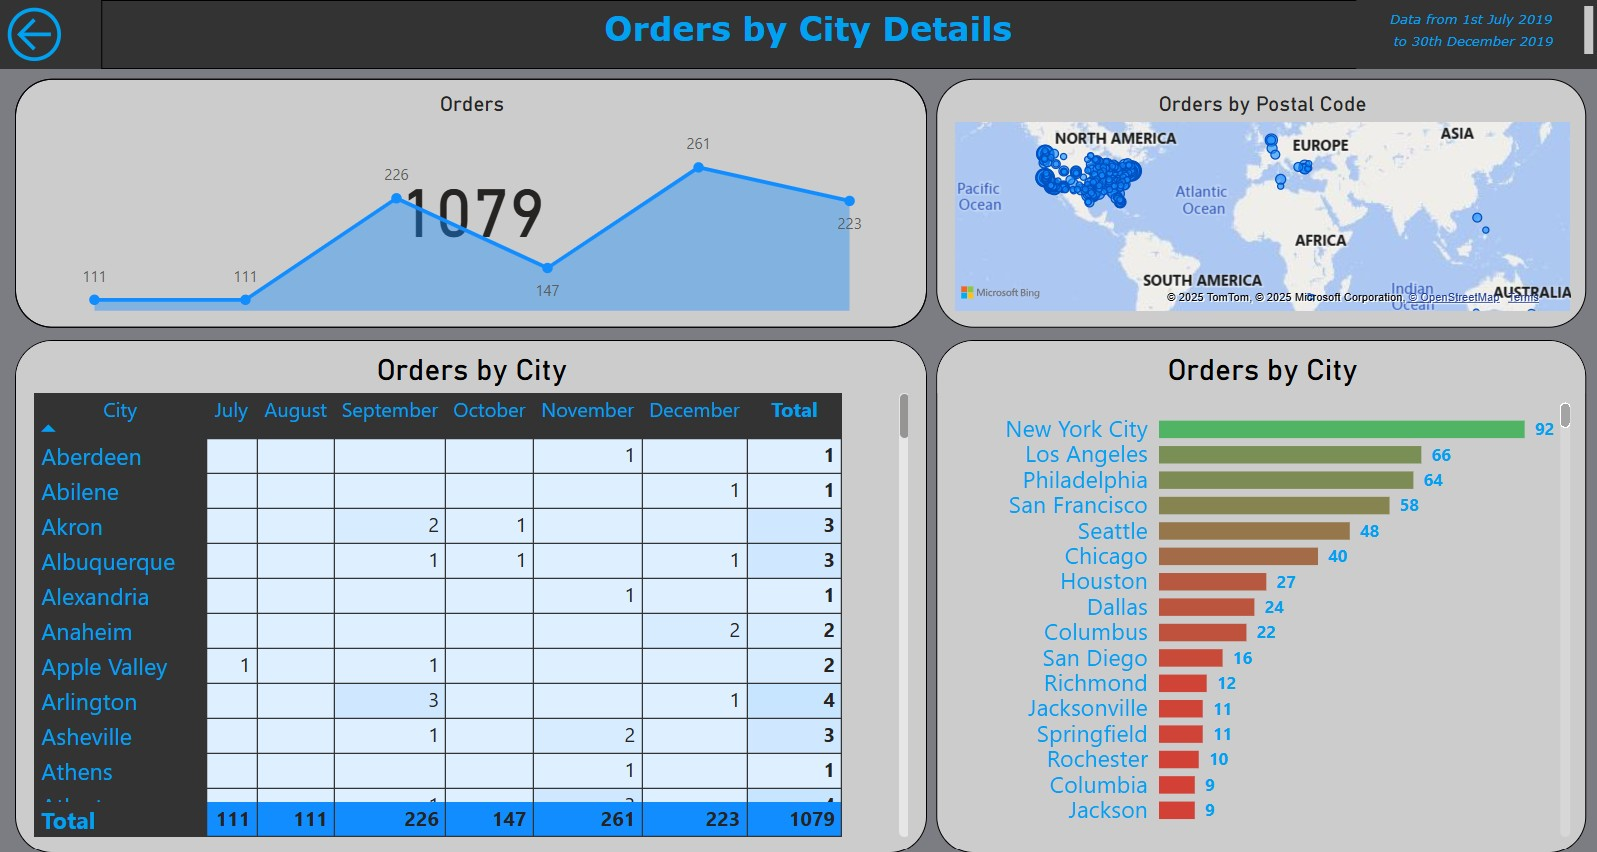

The dashboard page shown, as its layout file describes it:
{"tool":"powerbi","page":{"name":"Orders By City","canvas":[1280,690],"ordinal":3},"visuals":[{"type":"pivotTable","title":"Orders by City","fields":{"Rows":["Geographical_DimTable.City"],"Columns":["Orders_Table.Order Date.Variation.Date Hierarchy.Month"],"Values":["Count(Orders_Table.Order ID)"]},"box":[12.2,272.2,728.9,411.1],"z":0},{"type":"actionButton","box":[0,0,81,55],"z":1000},{"type":"textbox","box":[81.2,0,1128.8,55],"z":2000},{"type":"textbox","box":[1085,0,195,55],"z":3000},{"type":"barChart","title":"Orders by City","fields":{"Category":["Geographical_DimTable.City"],"Y":["Count(Orders_Table.Order ID)"]},"box":[748.9,272.2,520,411.1],"z":4000},{"type":"card","title":"Sales in Last 6 Months","fields":{"Values":["Count(Orders_Table.Order ID)"]},"box":[12.2,63.3,728.9,198.9],"z":5000},{"type":"areaChart","title":"Orders","fields":{"Category":["Orders_Table.Order Date.Variation.Date Hierarchy.Month"],"Y":["Count(Orders_Table.Order ID)"]},"box":[12.2,63.3,728.9,198.9],"z":6000},{"type":"map","title":"Orders by Postal Code","fields":{"Category":["Geographical_DimTable.Postal Code"],"Size":["Count(Orders_Table.Order ID)"]},"box":[748.9,63.3,520,198.9],"z":7000}]}

Visuals, with their boxes in screenshot pixels (x1, y1, x2, y2), scaled from the page's 1280x690 canvas onto the 1597x852 screenshot:
"Orders by City" pivotTable: select_region(15, 336, 925, 844)
actionButton: select_region(0, 0, 101, 68)
textbox: select_region(101, 0, 1510, 68)
textbox: select_region(1354, 0, 1596, 68)
"Orders by City" barChart: select_region(934, 336, 1583, 844)
"Sales in Last 6 Months" card: select_region(15, 78, 925, 324)
"Orders" areaChart: select_region(15, 78, 925, 324)
"Orders by Postal Code" map: select_region(934, 78, 1583, 324)
